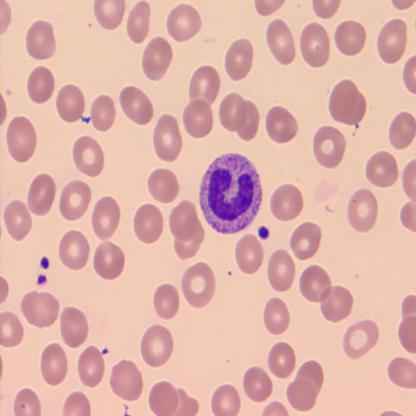Band Neutrophil: (198, 151, 266, 238)
